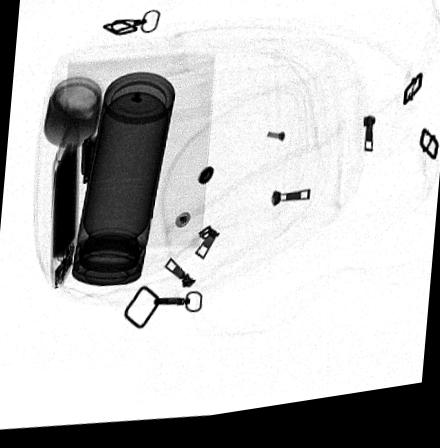Powerbank: (50, 121, 77, 292)
